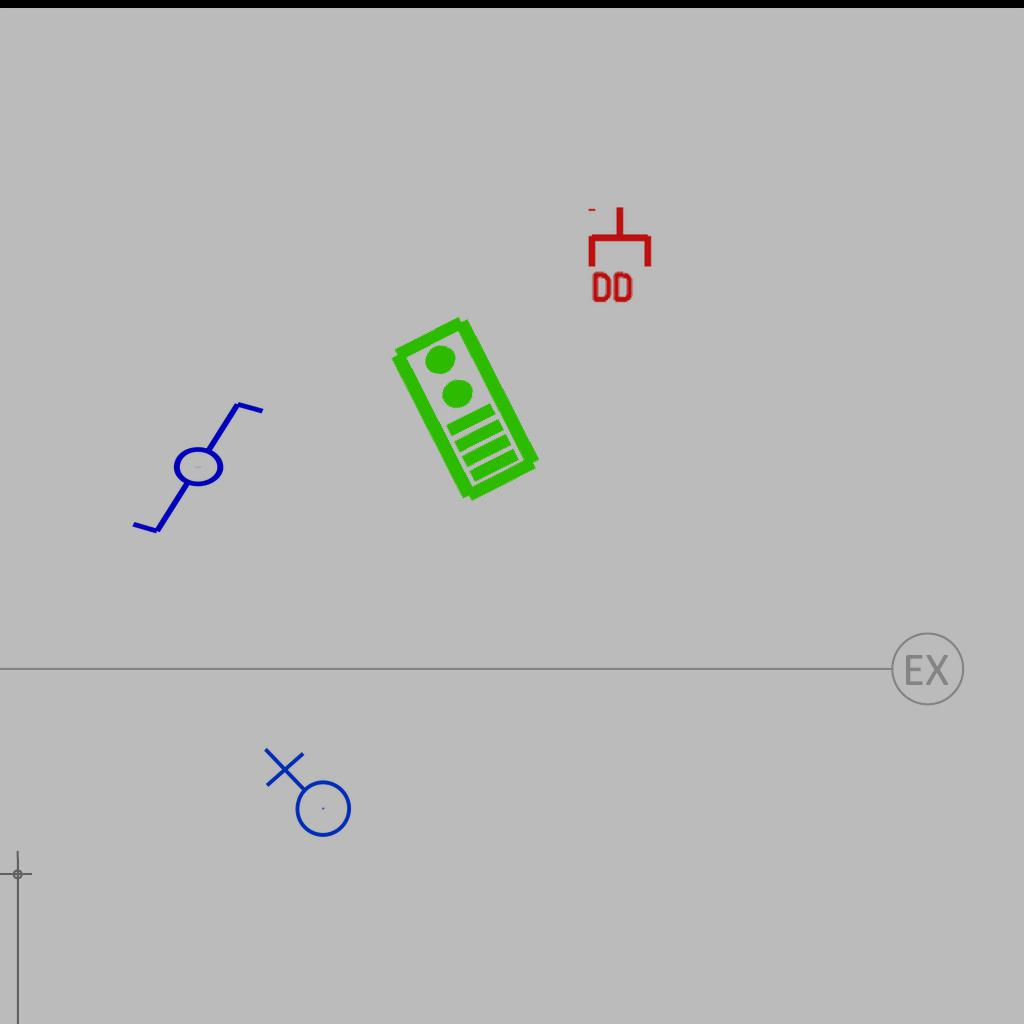Datenanschluss_zweifach: (587, 204, 656, 307)
Elektroanschluss_allgemein_230V_Geraeteanschlussdose_230V: (259, 747, 353, 846)
Gegensprechanlage_mit_Video: (381, 309, 546, 509)
Wechselschalter: (128, 397, 285, 541)
